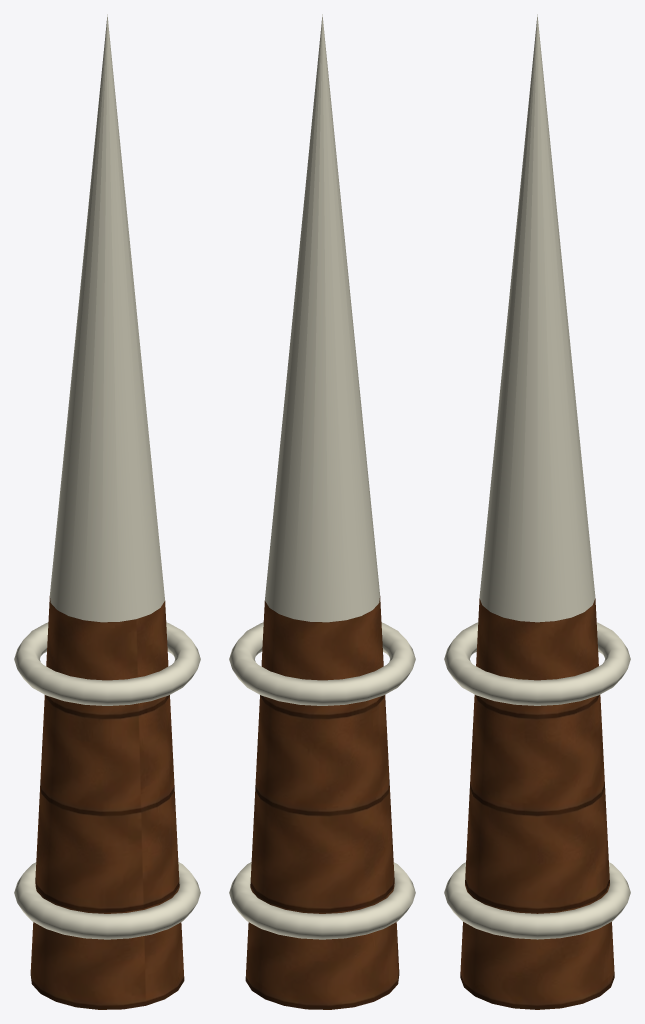
File: primitive-crafting-workshop-basketry-awl-49d05192__21572.glb
3 views of the same model, side by side, from view 1: azimuth 30°, elevation 25°; view 2: azimuth 150°, elevation 25°; view 3: azimuth 270°, elevation 25° (orthographic).
Visible parts, largest first — view 1: basketry-awl; view 2: basketry-awl; view 3: basketry-awl.
Part boxes in pixels (x1,y1,x2,y2): basketry-awl: [14, 14, 200, 1009]; basketry-awl: [229, 14, 415, 1009]; basketry-awl: [444, 14, 630, 1009].
Bounding box in the file's own units: 0.058 × 0.33 × 0.058.
2 materials, 1 textured.
